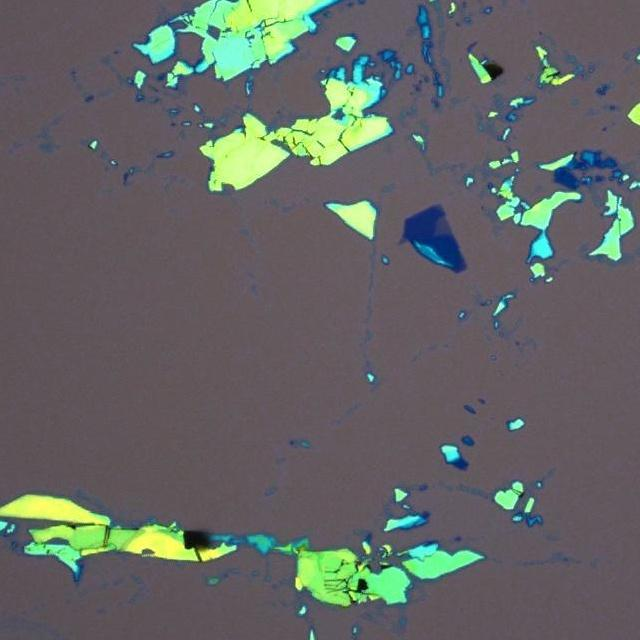monolayer-eWW4: (434, 216, 452, 237), (398, 236, 408, 247)
